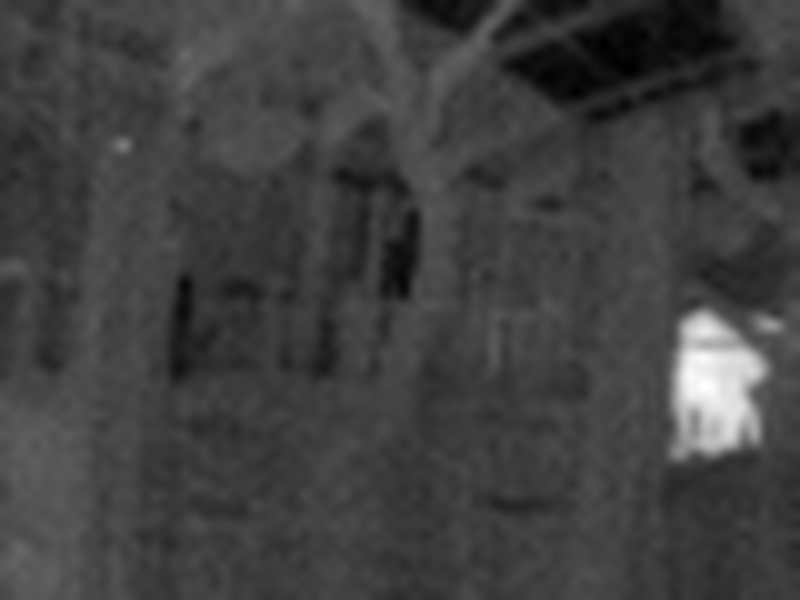elephant: (647, 284, 794, 512)
